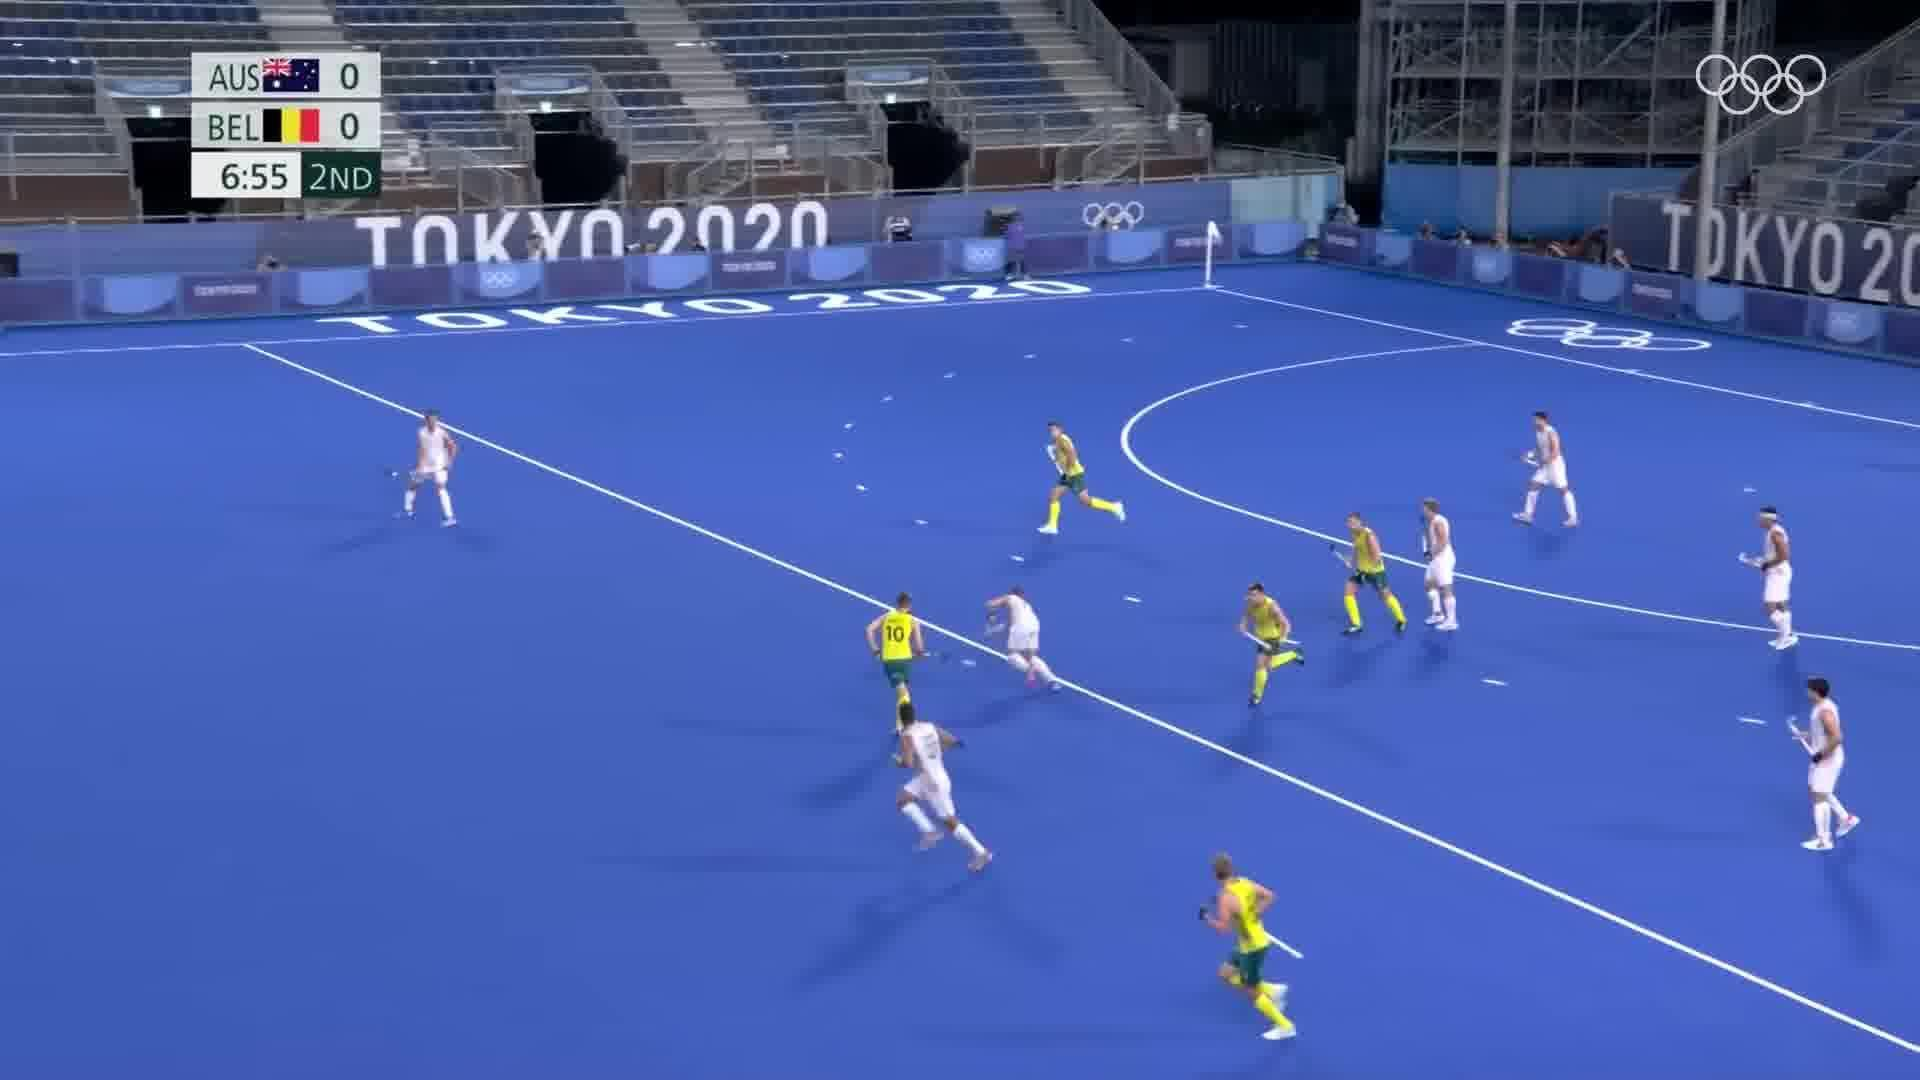ball: (958, 651, 980, 672)
